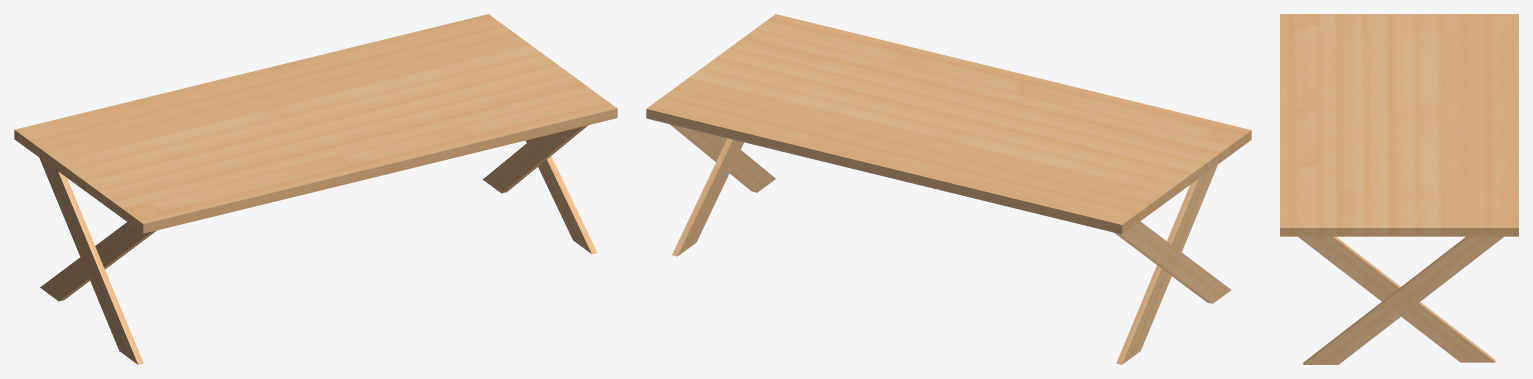
File: TablesV4.fbx
3 renders of one model, left to right at view 1: azimuth 30°, elevation 25°; view 2: azimuth 150°, elevation 25°; view 3: azimuth 270°, elevation 25°, orthographic. The views are drawn at different scales.
Visible parts, largest first — view 1: Table_009; view 2: Table_009; view 3: Table_009.
Boxes of the visible parts, x1=… form: Table_009: x1=14, y1=14, x2=617, y2=364; Table_009: x1=646, y1=14, x2=1251, y2=364; Table_009: x1=1280, y1=14, x2=1518, y2=364.
Bounding box in the file's own units: 13.12 × 4.02 × 6.19.
